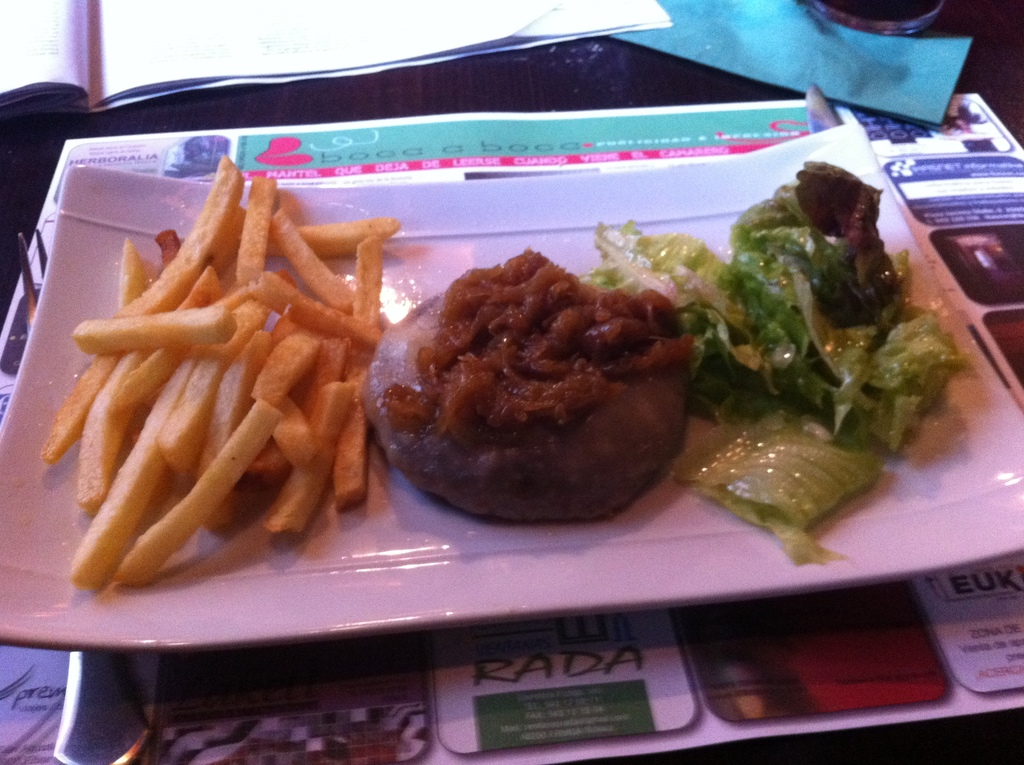French fries: (36, 144, 403, 594)
